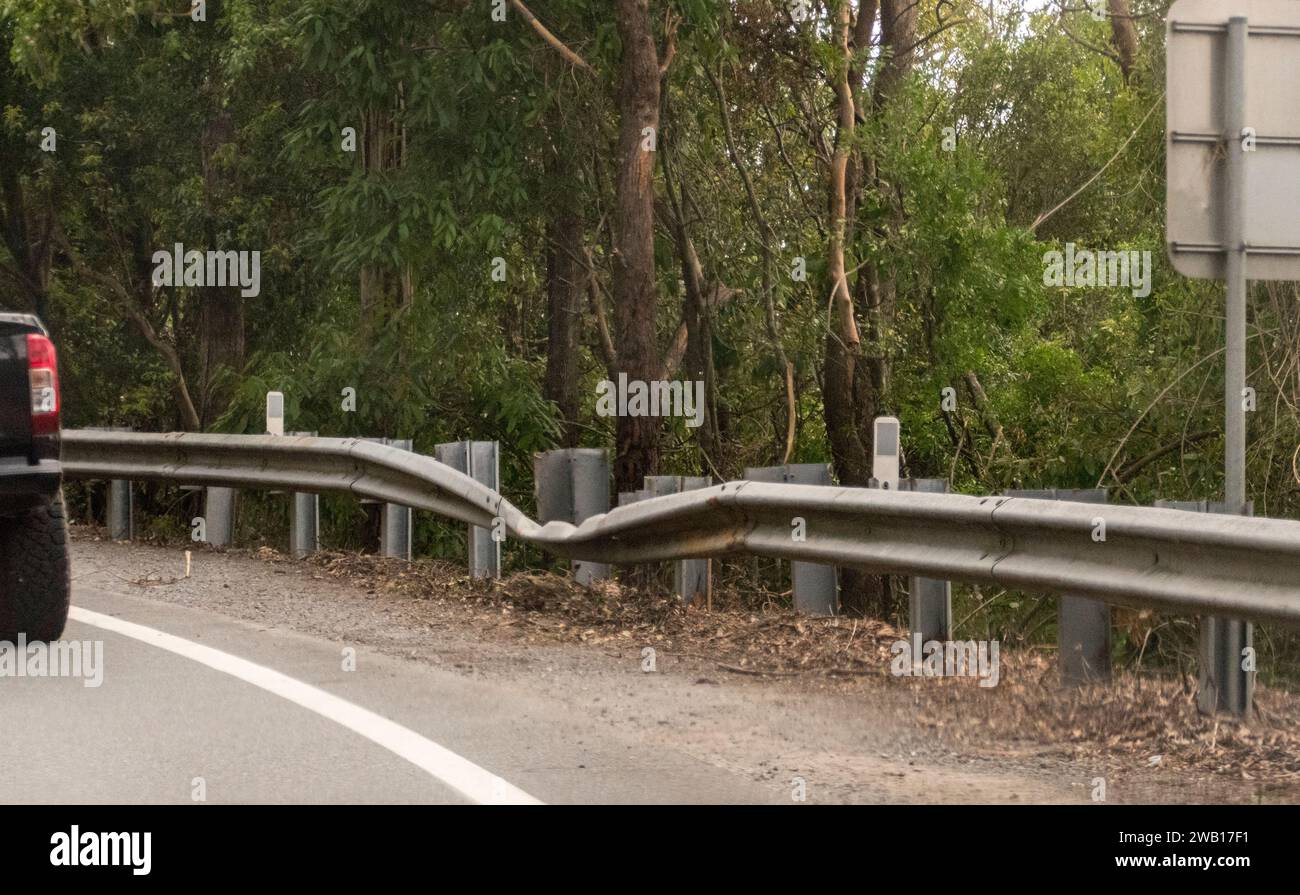damaged: (378, 427, 771, 585)
not_damaged: (901, 478, 1296, 632), (81, 421, 294, 511)
